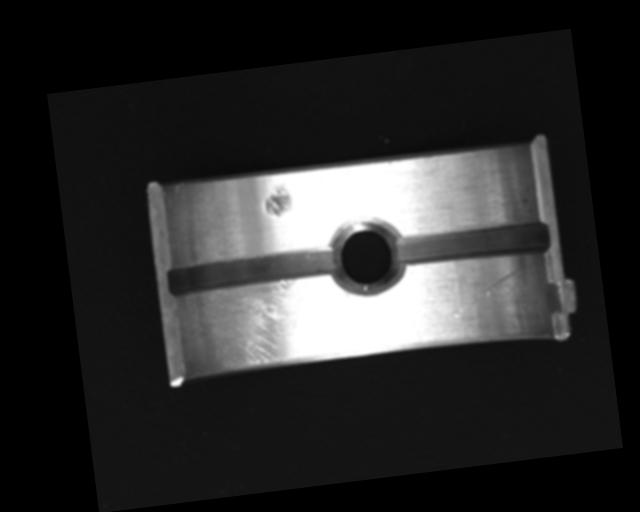bruise: (261, 181, 293, 218)
gap: (166, 243, 343, 298), (396, 218, 550, 268)
hole: (328, 215, 406, 301)
nick: (445, 266, 526, 320)
scratch: (183, 273, 344, 379)
